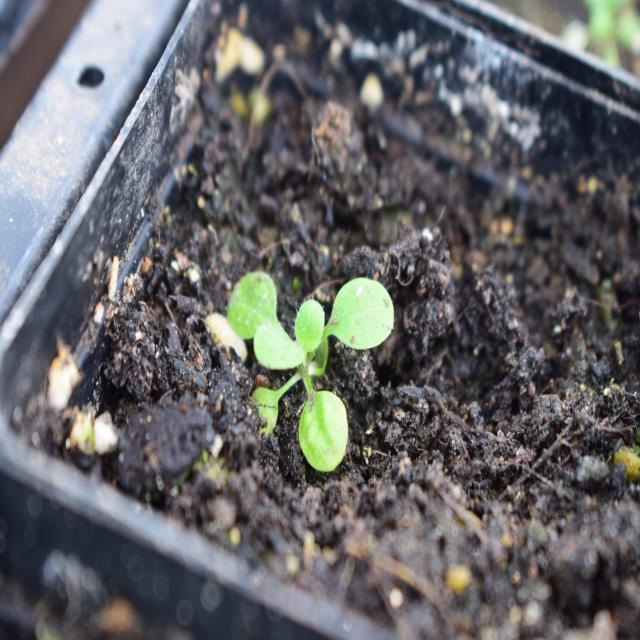Shepherd_Purse: (202, 210, 403, 467)
